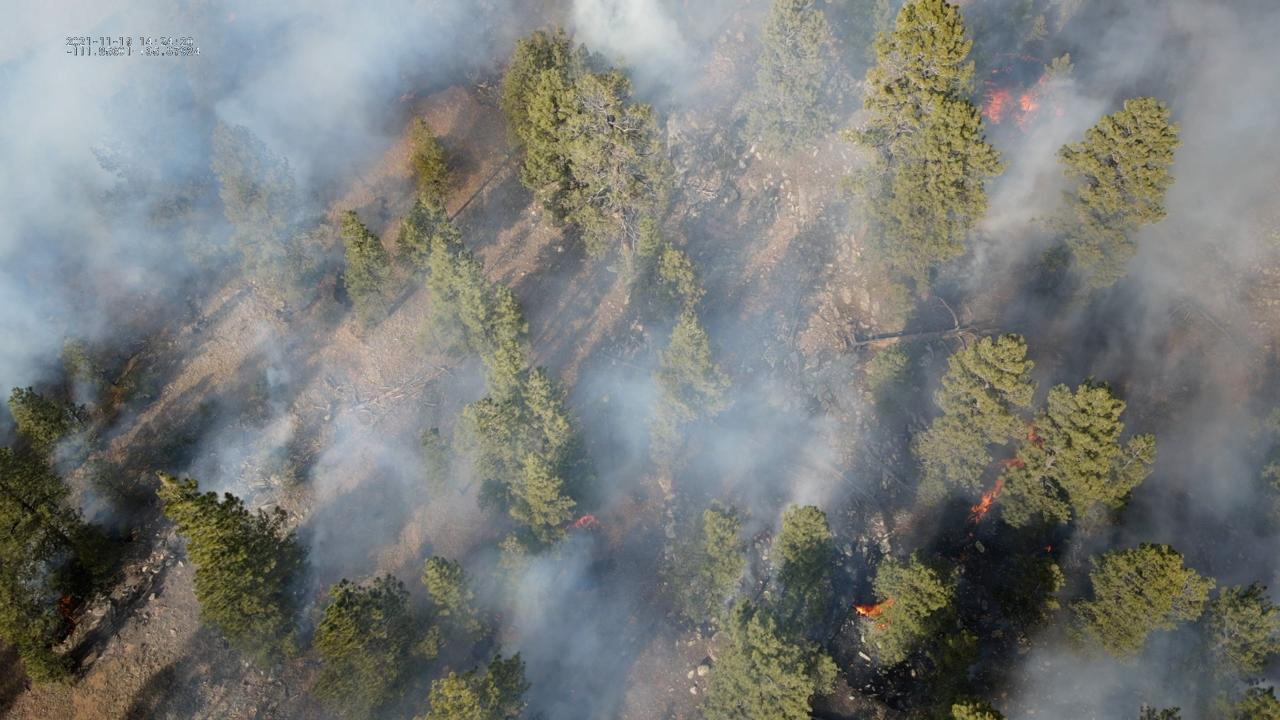fire: (976, 75, 1052, 132), (964, 475, 1006, 525), (851, 596, 896, 631), (1019, 421, 1042, 448), (566, 513, 602, 530), (399, 92, 425, 106), (59, 594, 73, 619), (999, 456, 1025, 469), (1044, 544, 1053, 555), (968, 532, 977, 538), (411, 76, 419, 82), (990, 69, 999, 74)
smoke: (0, 0, 1280, 720)
